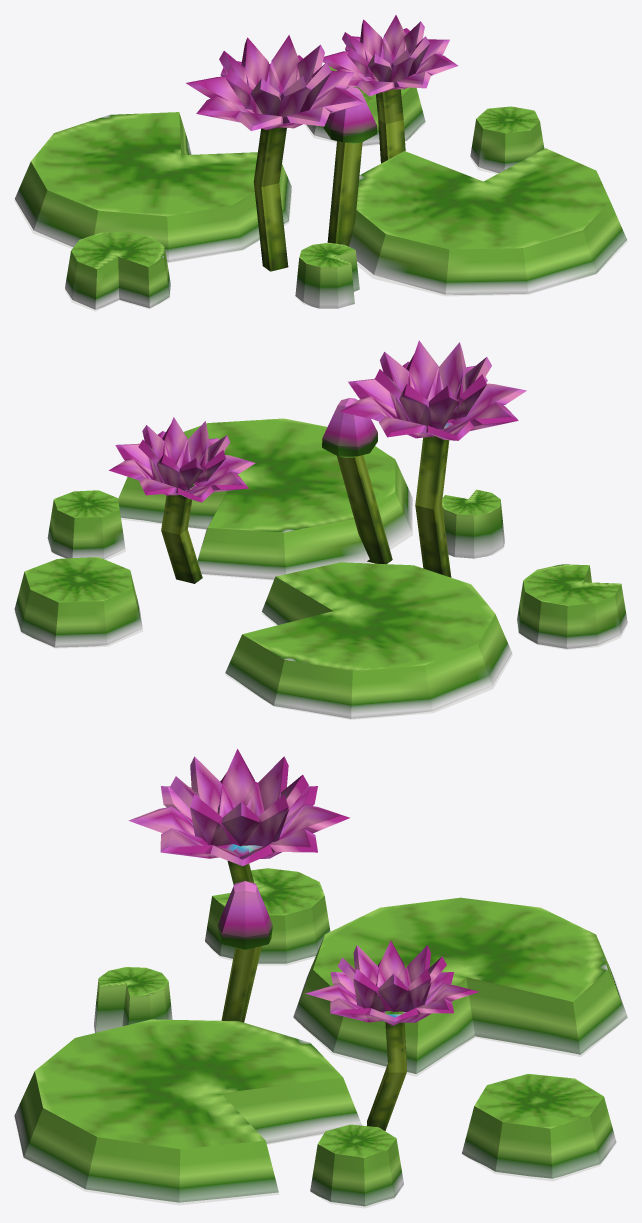
The model's file is Poly_Lotus_02.obj.
The picture shows the model from 3 angles, top to bottom: view 1: azimuth 30°, elevation 25°; view 2: azimuth 150°, elevation 25°; view 3: azimuth 270°, elevation 25°; orthographic projection. The views are drawn at different scales.
Parts seen in each view (by area): view 1: Circle.003, Circle.001, Plane.003, Cube.004, Circle.006, Plane.001, Circle.005, Circle.004, Circle.002; view 2: Circle.001, Circle.003, Cube.004, Plane.003, Circle.002, Circle.006, Plane.001, Circle.005, Circle.004; view 3: Circle.003, Circle.001, Plane.003, Circle.002, Plane.001, Cube.004, Circle.006, Circle.005, Circle.004.
Boxes of the visible parts, x1=… form: Circle.003: x1=349, y1=148, x2=627, y2=296; Circle.001: x1=14, y1=112, x2=292, y2=262; Plane.003: x1=186, y1=35, x2=364, y2=130; Cube.004: x1=253, y1=86, x2=405, y2=271; Circle.006: x1=64, y1=231, x2=170, y2=311; Plane.001: x1=323, y1=15, x2=458, y2=96; Circle.005: x1=470, y1=106, x2=544, y2=173; Circle.004: x1=295, y1=242, x2=359, y2=308; Circle.002: x1=304, y1=66, x2=425, y2=146; Circle.001: x1=225, y1=562, x2=512, y2=719; Circle.003: x1=118, y1=418, x2=412, y2=580; Cube.004: x1=161, y1=398, x2=451, y2=583; Plane.003: x1=339, y1=340, x2=526, y2=440; Circle.002: x1=14, y1=557, x2=142, y2=648; Circle.006: x1=517, y1=564, x2=627, y2=649; Plane.001: x1=109, y1=417, x2=255, y2=502; Circle.005: x1=47, y1=490, x2=125, y2=559; Circle.004: x1=442, y1=489, x2=504, y2=558; Circle.003: x1=14, y1=1019, x2=361, y2=1205; Circle.001: x1=293, y1=897, x2=627, y2=1076; Plane.003: x1=128, y1=749, x2=349, y2=866; Circle.002: x1=461, y1=1074, x2=616, y2=1181; Plane.001: x1=305, y1=940, x2=479, y2=1025; Cube.004: x1=217, y1=861, x2=406, y2=1130; Circle.006: x1=205, y1=868, x2=330, y2=965; Circle.005: x1=310, y1=1124, x2=403, y2=1208; Circle.004: x1=94, y1=967, x2=172, y2=1032.
Bounding box in the file's own units: 0.9399 × 0.3677 × 0.8229.
1 material, 1 textured.
